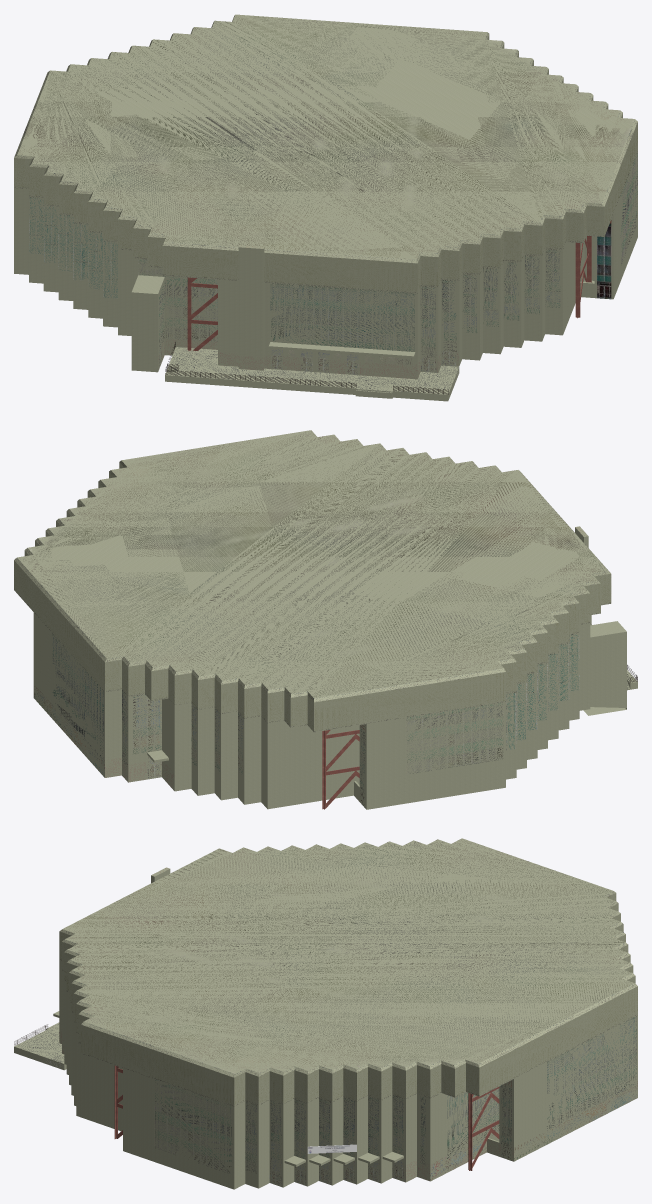
The model's file is zimny_stadion.glb.
3 views of the same model, one above another, from view 1: azimuth 30°, elevation 25°; view 2: azimuth 150°, elevation 25°; view 3: azimuth 270°, elevation 25° (orthographic). The views are drawn at different scales.
Visible parts, largest first — view 1: tehly, Google_Earth_Snapshot_1, strecha, P2030056_1_0, P1_2, Olovo, okno4_2, okno2_1_2, Asphalt_New, material_1, IMAG0312_1, lem (+1 smaller); view 2: tehly, Google_Earth_Snapshot_1, strecha, okno2_1, P2030056_1, Olovo, lem, Okna1_1; view 3: tehly, Google_Earth_Snapshot_1, strecha, P2030056_1, okno2_1_2, P1_2, Olovo, lem.
Part boxes in pixels (x1,y1,x2,y2): tehly: (14,14,637,401); Google_Earth_Snapshot_1: (18,16,633,385); strecha: (14,45,637,290); P2030056_1_0: (270,284,414,351); P1_2: (420,248,560,357); Olovo: (187,236,591,350); okno4_2: (29,197,117,298); okno2_1_2: (138,153,637,341); Asphalt_New: (165,347,458,393); material_1: (165,342,448,394); IMAG0312_1: (597,220,611,299); lem: (16,17,636,262); tehly: (14,430,637,809); Google_Earth_Snapshot_1: (19,430,606,697); strecha: (14,462,611,730); okno2_1: (406,703,503,773); P2030056_1: (53,637,103,760); Olovo: (322,729,359,809); lem: (15,462,609,701); Okna1_1: (133,695,243,772); tehly: (14,838,637,1189); Google_Earth_Snapshot_1: (39,839,631,1073); strecha: (60,896,637,1103); P2030056_1: (447,1016,636,1158); okno2_1_2: (154,1080,232,1173); P1_2: (245,1095,425,1173); Olovo: (114,1065,499,1170); lem: (60,892,636,1077).
Bounding box in the file's own units: 88.09 × 21.57 × 96.68.
Materials: 34 (33 with a texture image).
